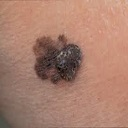Melanoma: (32, 34, 85, 84)
